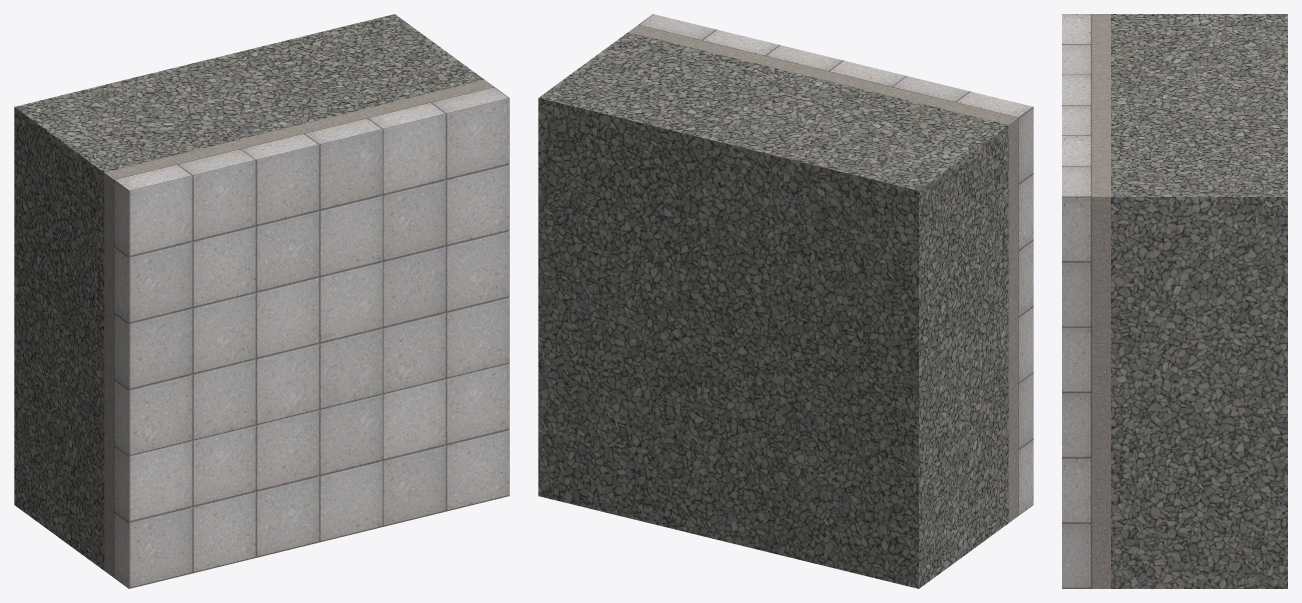
Rendered from SMR_1C.gltf.
3 views of the same model, side by side, from view 1: azimuth 30°, elevation 25°; view 2: azimuth 150°, elevation 25°; view 3: azimuth 270°, elevation 25° (orthographic).
Parts seen in each view (by area): view 1: Mesh_0.002, Mesh_2, Mesh_1.001; view 2: Mesh_2, Mesh_0.002, Mesh_1.001; view 3: Mesh_2, Mesh_0.002, Mesh_1.001.
Part boxes in pixels (x1,y1,x2,y2): Mesh_0.002: (113,87,509,588); Mesh_2: (14,14,484,570); Mesh_1.001: (104,79,493,577); Mesh_2: (538,32,1008,588); Mesh_0.002: (638,14,1033,515); Mesh_1.001: (628,25,1018,522); Mesh_2: (1111,14,1287,588); Mesh_0.002: (1062,14,1092,588); Mesh_1.001: (1092,14,1110,588).
Bounding box in the file's own units: 1.15 × 1.15 × 0.6.
3 materials, 3 textured.
